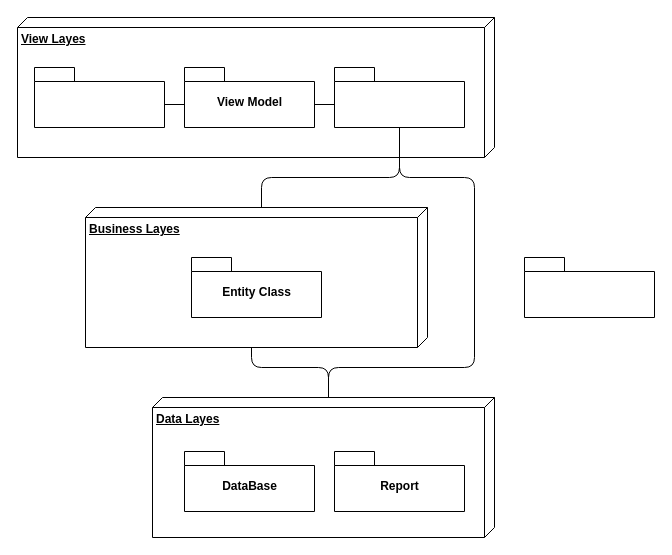
Image size: 672x555. Some labels were removed from this diagram. The centre of each missing label's shape, as x and y in pixels:
"Cross Cutting global" belongs at [589,287].
"Model" belongs at [399,97].
"View" belongs at [99,97].
